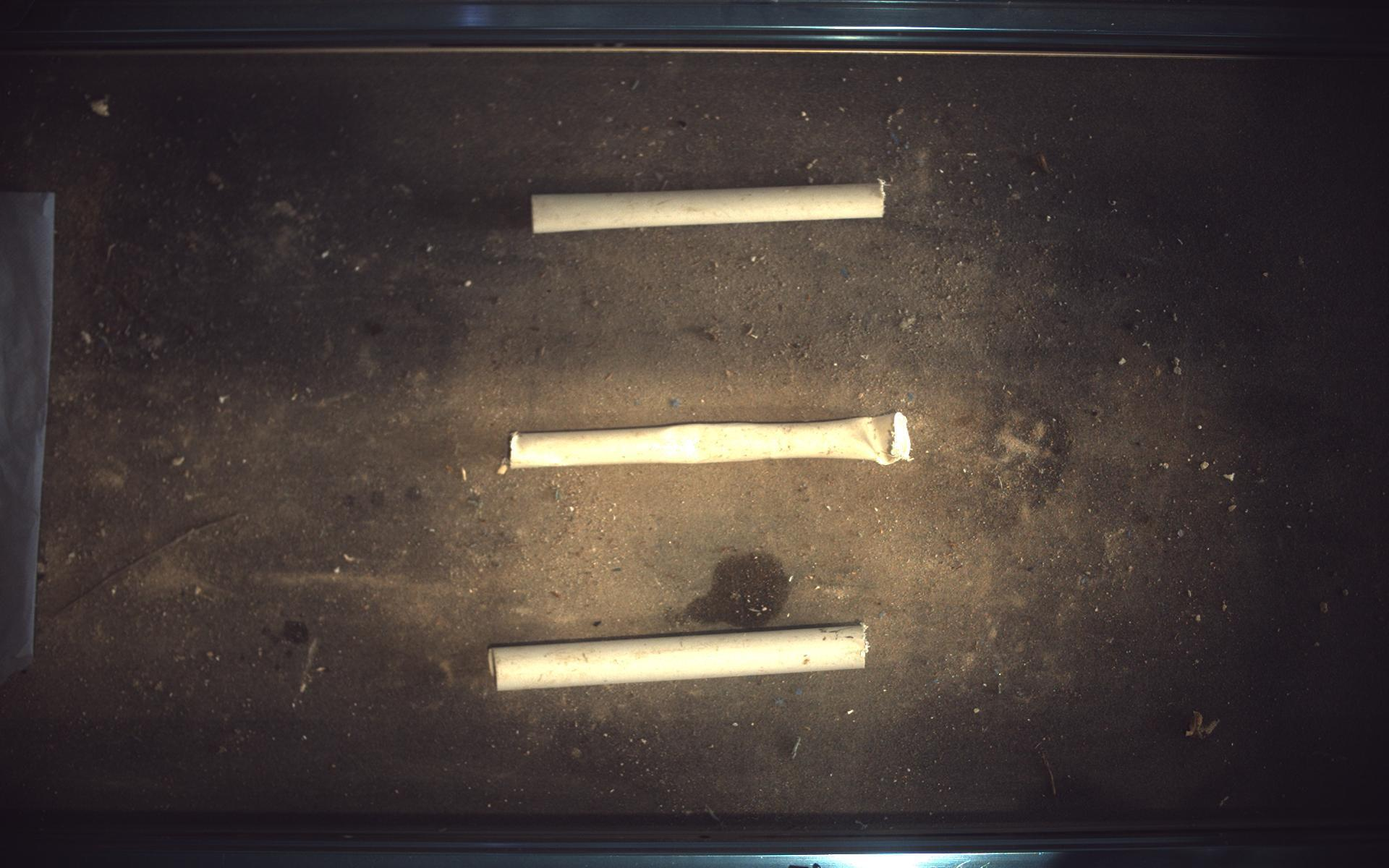pipes: (490, 624, 867, 692), (509, 412, 913, 469), (532, 182, 886, 233)
